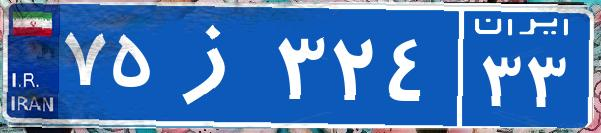2: (330, 28, 385, 110)
3: (273, 28, 330, 110), (475, 38, 525, 113), (525, 38, 570, 115)
4: (385, 28, 445, 110)
5: (110, 28, 158, 105)
7: (57, 26, 110, 107)
ز: (158, 15, 273, 115)
